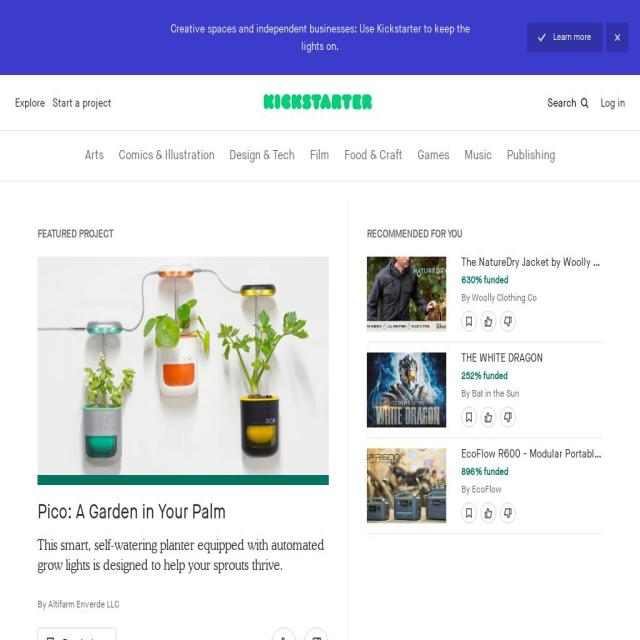button: (38, 256, 330, 612), (367, 256, 461, 332), (367, 352, 461, 428), (367, 448, 461, 524), (527, 22, 602, 52), (264, 93, 376, 112), (119, 146, 214, 166), (229, 146, 295, 166), (344, 146, 402, 166), (37, 626, 116, 640), (15, 85, 45, 120), (507, 146, 555, 166), (548, 93, 590, 112), (418, 146, 450, 166), (464, 146, 492, 166), (601, 93, 625, 112), (85, 146, 104, 166), (310, 146, 329, 166), (303, 626, 329, 640), (461, 310, 477, 332), (480, 310, 496, 332), (500, 310, 516, 332), (461, 502, 477, 524), (480, 502, 496, 524), (500, 502, 516, 524), (271, 626, 296, 640), (461, 407, 477, 428), (480, 407, 496, 428), (500, 407, 516, 428)
heading: (38, 499, 330, 525), (38, 226, 330, 242), (367, 226, 602, 242)
image: (38, 257, 330, 475), (367, 256, 446, 332), (367, 352, 446, 428), (367, 448, 446, 524), (38, 474, 330, 485), (264, 93, 376, 112), (480, 316, 496, 326), (480, 412, 496, 422), (480, 508, 496, 518), (500, 316, 515, 326), (500, 412, 515, 422), (500, 508, 515, 518), (462, 316, 476, 326), (462, 412, 476, 422), (462, 508, 476, 518), (271, 637, 296, 640), (304, 637, 328, 640)
link: (38, 534, 330, 595), (52, 85, 111, 120), (460, 448, 602, 460), (460, 257, 602, 268), (461, 353, 543, 364)
text: (160, 20, 480, 55), (460, 465, 602, 480), (460, 274, 602, 288), (461, 369, 543, 384), (49, 597, 120, 611), (471, 292, 537, 304), (472, 388, 520, 400), (553, 30, 591, 45), (548, 93, 576, 112), (471, 483, 501, 496), (55, 633, 108, 640), (461, 483, 472, 496), (38, 597, 48, 611), (461, 292, 472, 304), (461, 388, 472, 400)
